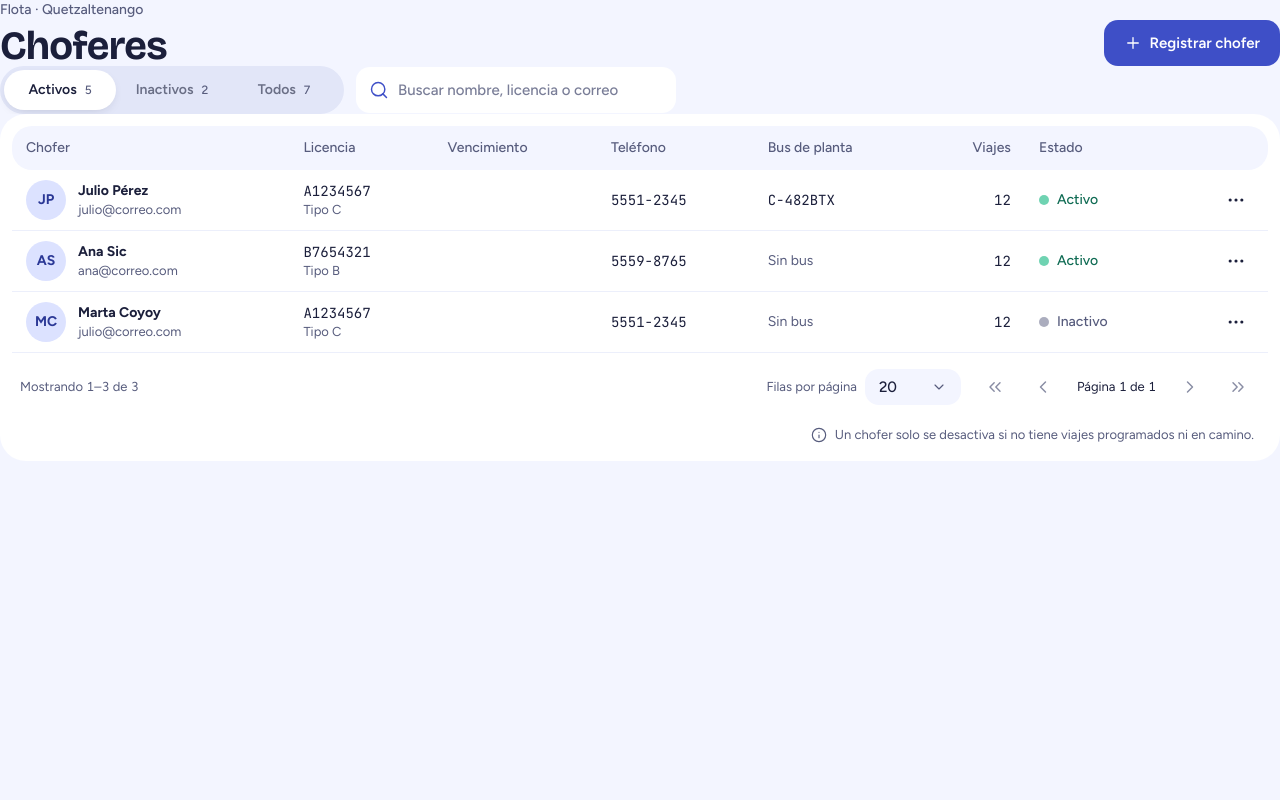
Test case: DriversScreen › asks before deactivating and then does it
Later steps or results of the test are not shown.
What coordinates should you click on to do the following:
click the button named "Acciones de Ana Sic"
I would click on:
 (1236, 261)
Its box is [1218,243,1254,279].
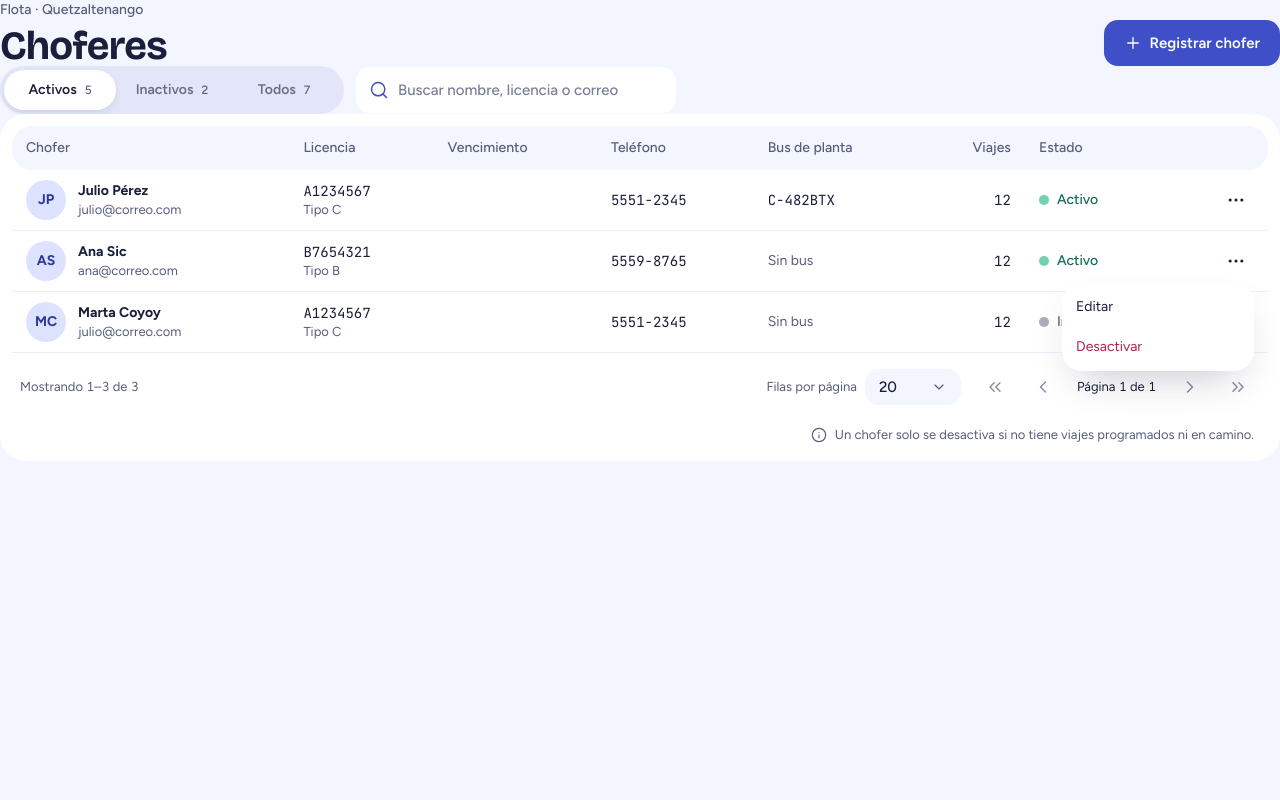
What coordinates should you click on to do the following:
click the menu item "Desactivar"
I would click on:
 (1109, 346)
Its box is [1076,338,1142,355].
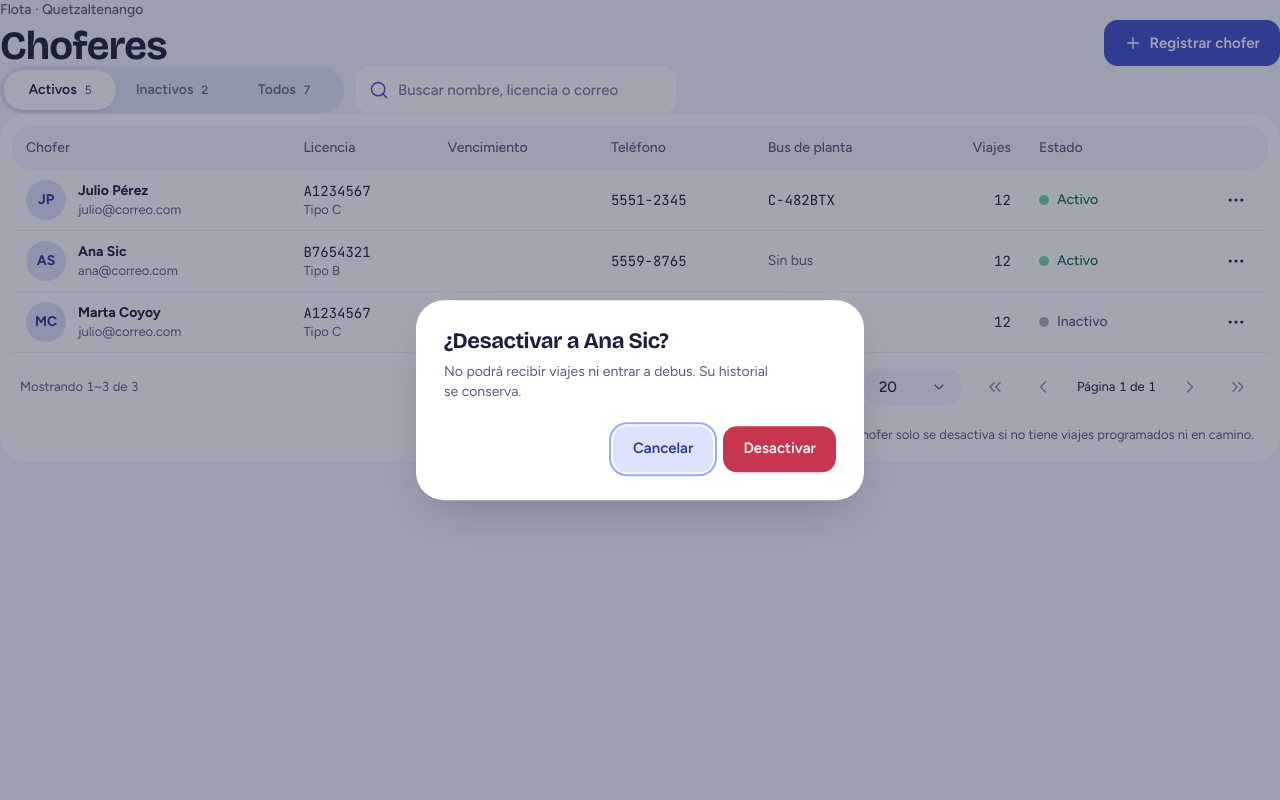
Expected: the dialog shows "¿Desactivar a Ana Sic?", [444,328,668,354]
